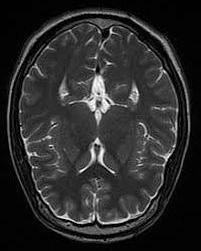Normal_Brain: (5, 1, 201, 251)
